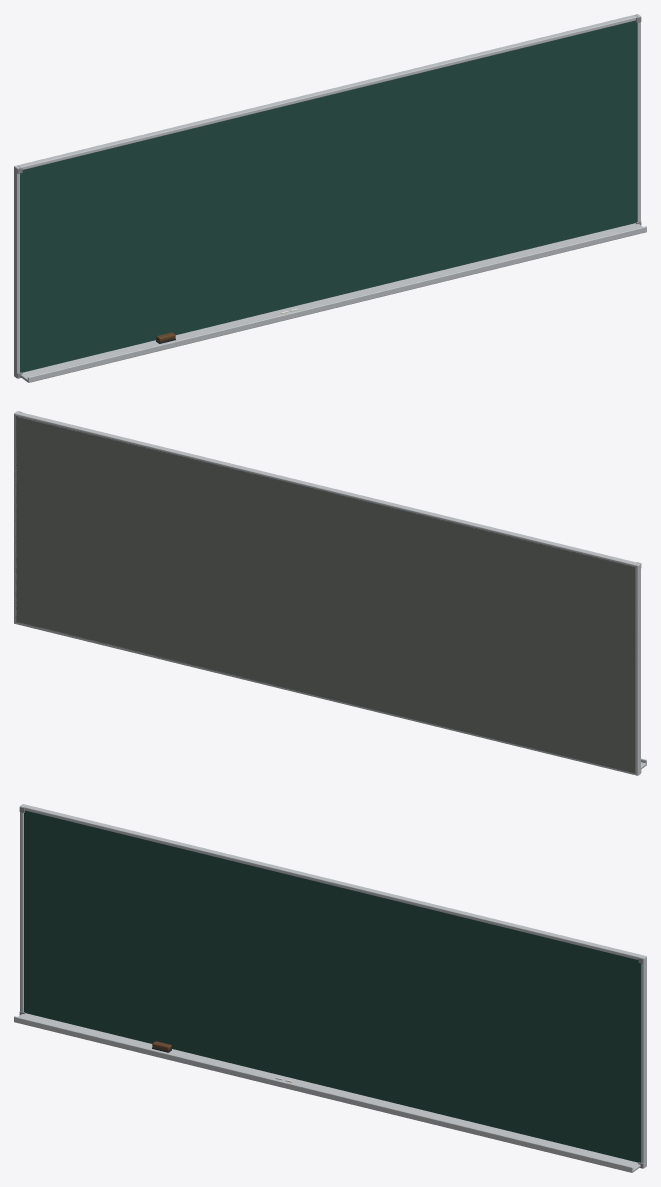
The model's file is chalkboard.glb.
3 renders of one model, top to bottom at view 1: azimuth 30°, elevation 25°; view 2: azimuth 150°, elevation 25°; view 3: azimuth 330°, elevation 25°, orthographic.
Visible parts, largest first — view 1: KAClass_Board_Green_Surface, KAClass_Board_Chalk_Tray_Base, KAClass_Board_Aluminium_Frame_Horizontal.001, KAClass_Board_Chalk_Tray_Lip, KAClass_Board_Aluminium_Frame_Vertical, KAClass_Board_Aluminium_Frame_Vertical.001; view 2: KAClass_Board_Backing, KAClass_Board_Aluminium_Frame_Horizontal.001, KAClass_Board_Aluminium_Frame_Horizontal, KAClass_Board_Aluminium_Frame_Vertical, KAClass_Board_Aluminium_Frame_Vertical.001; view 3: KAClass_Board_Green_Surface, KAClass_Board_Chalk_Tray_Base, KAClass_Board_Aluminium_Frame_Horizontal.001, KAClass_Board_Chalk_Tray_Lip, KAClass_Board_Aluminium_Frame_Vertical.001, KAClass_Board_Aluminium_Frame_Vertical.
Part boxes in pixels (<box>): KAClass_Board_Green_Surface: <box>20,20,636,372</box>; KAClass_Board_Chalk_Tray_Base: <box>20,223,646,382</box>; KAClass_Board_Aluminium_Frame_Horizontal.001: <box>17,15,637,169</box>; KAClass_Board_Chalk_Tray_Lip: <box>27,226,646,381</box>; KAClass_Board_Aluminium_Frame_Vertical: <box>14,165,19,378</box>; KAClass_Board_Aluminium_Frame_Vertical.001: <box>635,14,640,221</box>; KAClass_Board_Backing: <box>15,415,635,773</box>; KAClass_Board_Aluminium_Frame_Horizontal.001: <box>17,412,637,566</box>; KAClass_Board_Aluminium_Frame_Horizontal: <box>17,622,634,774</box>; KAClass_Board_Aluminium_Frame_Vertical: <box>635,563,640,775</box>; KAClass_Board_Aluminium_Frame_Vertical.001: <box>14,411,19,624</box>; KAClass_Board_Green_Surface: <box>24,810,640,1162</box>; KAClass_Board_Chalk_Tray_Base: <box>14,1013,640,1172</box>; KAClass_Board_Aluminium_Frame_Horizontal.001: <box>23,805,643,959</box>; KAClass_Board_Chalk_Tray_Lip: <box>14,1016,633,1171</box>; KAClass_Board_Aluminium_Frame_Vertical.001: <box>641,955,646,1168</box>; KAClass_Board_Aluminium_Frame_Vertical: <box>20,804,25,1011</box>.
Bounding box in the file's own units: 4.5 × 1.45 × 0.15.
